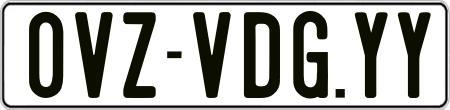0: (28, 12, 68, 99)
D: (242, 9, 280, 101)
G: (290, 8, 327, 97)
V: (72, 11, 115, 102), (190, 12, 231, 99)
Y: (355, 10, 391, 96), (397, 12, 430, 101)
Z: (123, 9, 156, 101)
